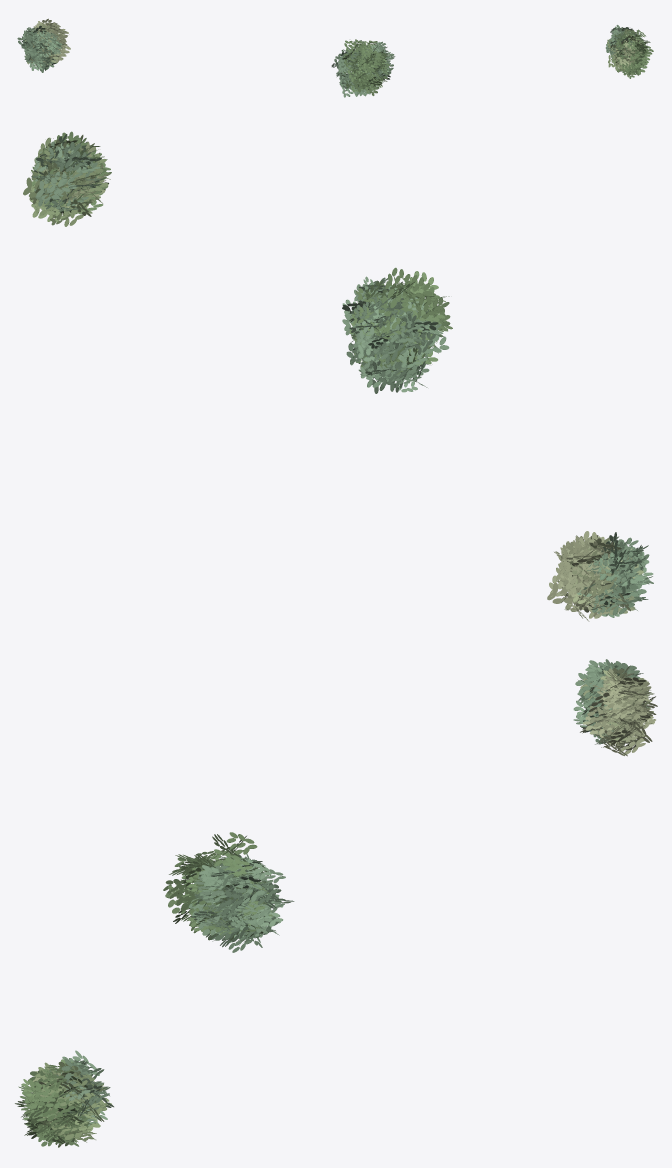
The model's file is campus-tree-4_-1-middle.glb.
3 renders of one model, top to bottom at view 1: azimuth 30°, elevation 25°; view 2: azimuth 150°, elevation 25°; view 3: azimuth 270°, elevation 25°, orthographic. The views are drawn at different scales.
Parts seen in each view (by area): view 1: Campus leaf canopy; view 2: Campus leaf canopy; view 3: Campus leaf canopy.
Part boxes in pixels (x1,y1,x2,y2): Campus leaf canopy: [17, 18, 653, 97]; Campus leaf canopy: [23, 131, 653, 621]; Campus leaf canopy: [15, 659, 657, 1147].
Size of the model in its own units: 49.76 by 6.36 by 31.31.
Materials: 1 (1 with a texture image).
